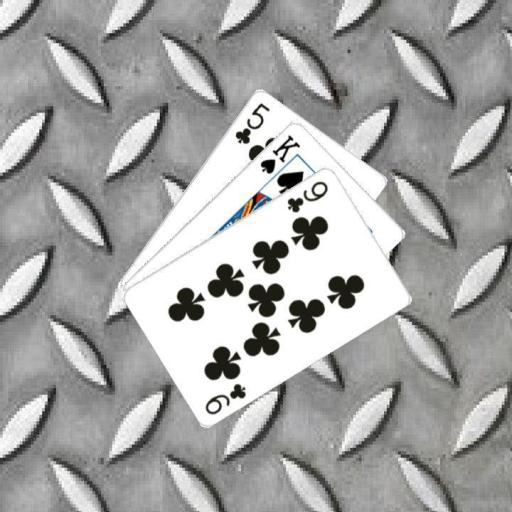card-corner: (256, 130, 302, 176), (231, 99, 272, 146), (284, 177, 330, 214), (201, 380, 248, 416)
